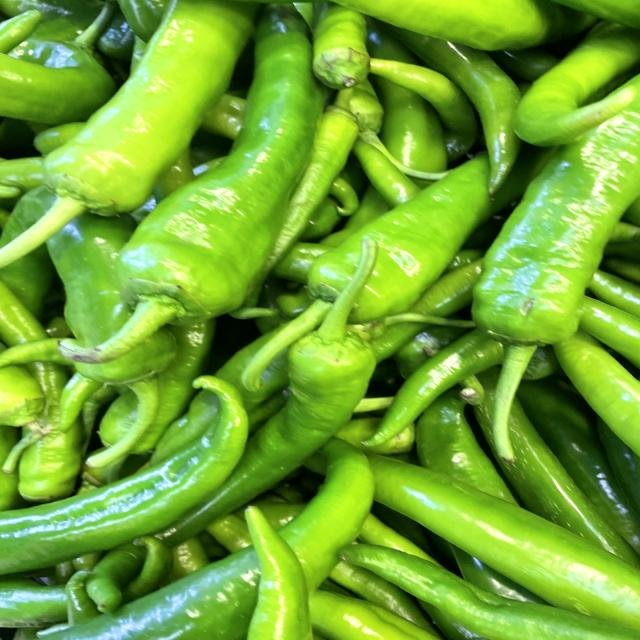green pepper: (53, 0, 343, 361)
